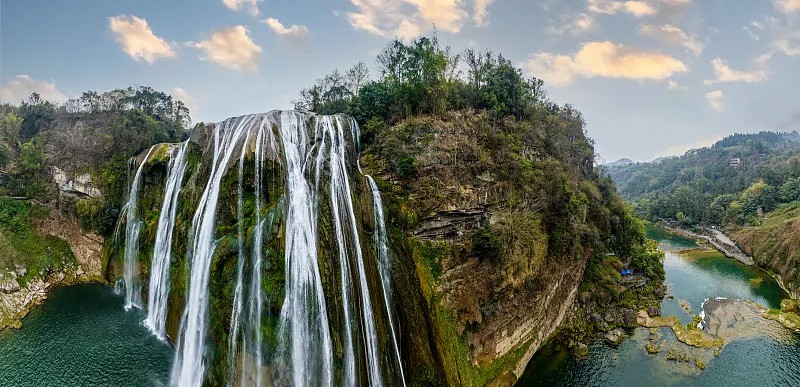Huangguoshu: (119, 112, 404, 387)
